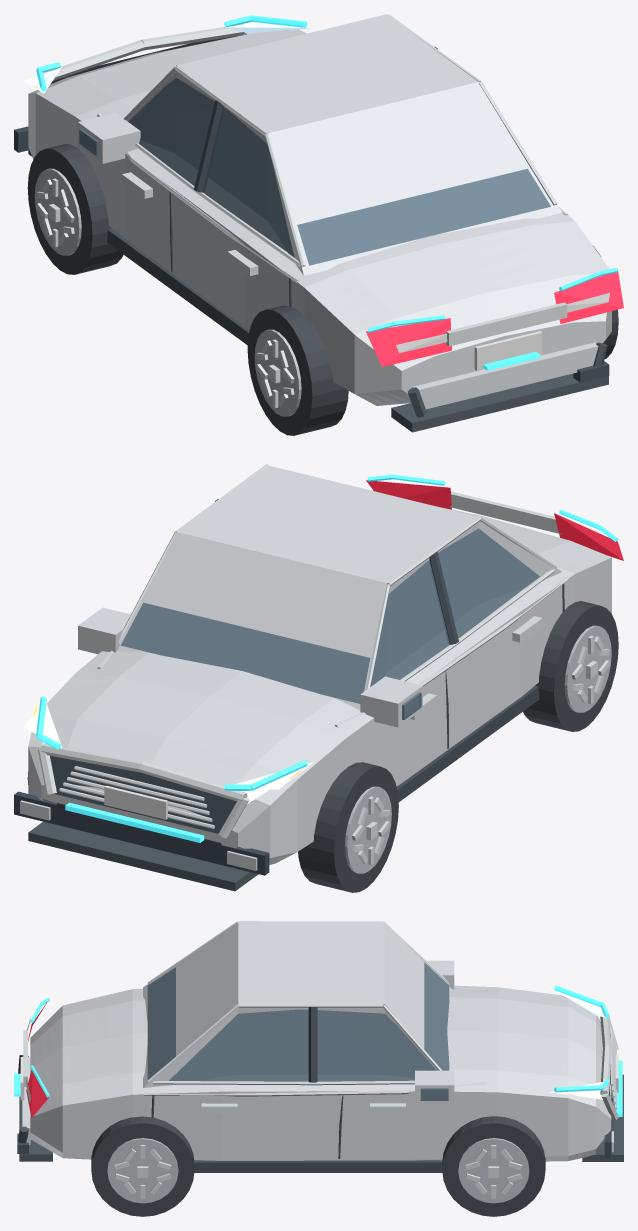
3 renders of one model, top to bottom at view 1: azimuth 30°, elevation 25°; view 2: azimuth 150°, elevation 25°; view 3: azimuth 270°, elevation 25°, orthographic. The views are drawn at different scales.
Parts seen in each view (by area): view 1: BodyPaint_SculptedBody, BodyPaint_RoofAndPillars, BodyPaint_RoofCentre, WindowGlass_RearWindow, WindowGlass_RearSide_-1, Wheel_Rear_L_Tyre, Wheel_Front_L_Tyre, WindowGlass_FrontSide_-1, RearLowerBumper, NN_RearDiffuser, SideSkirt_-1, TailRed_-1 (+12 smaller); view 2: BodyPaint_SculptedBody, BodyPaint_RoofAndPillars, BodyPaint_RoofCentre, WindowGlass_Windscreen, Wheel_Front_L_Tyre, WindowGlass_RearSide_-1, WindowGlass_FrontSide_-1, Wheel_Rear_L_Tyre, NN_FrontSplitter, GrilleMesh_Front, LowerGrille, SideSkirt_-1 (+17 smaller); view 3: BodyPaint_SculptedBody, BodyPaint_RoofAndPillars, BodyPaint_RoofCentre, WindowGlass_RearSide_1, WindowGlass_FrontSide_1, Wheel_Front_R_Tyre, Wheel_Rear_R_Tyre, SideSkirt_1, Wheel_Rear_R_Alloy, Wheel_Front_R_Alloy, WindowGlass_RearWindow, WindowGlass_Windscreen (+10 smaller).
Boxes of the visible parts, x1,y1,x2,y2 form: BodyPaint_SculptedBody: (28, 29, 611, 405); BodyPaint_RoofAndPillars: (127, 14, 561, 275); BodyPaint_RoofCentre: (180, 15, 475, 131); WindowGlass_RearWindow: (297, 169, 550, 265); WindowGlass_RearSide_-1: (203, 107, 294, 256); Wheel_Rear_L_Tyre: (247, 305, 348, 435); Wheel_Front_L_Tyre: (27, 144, 123, 274); WindowGlass_FrontSide_-1: (128, 78, 214, 185); RearLowerBumper: (412, 342, 598, 409); NN_RearDiffuser: (391, 373, 608, 432); SideSkirt_-1: (107, 228, 249, 344); TailRed_-1: (366, 318, 451, 366); BodyPaint_SculptedBody: (28, 507, 611, 864); BodyPaint_RoofAndPillars: (117, 465, 561, 709); BodyPaint_RoofCentre: (180, 466, 475, 581); WindowGlass_Windscreen: (121, 602, 370, 703); Wheel_Front_L_Tyre: (298, 762, 398, 892); WindowGlass_RearSide_-1: (438, 528, 539, 638); WindowGlass_FrontSide_-1: (370, 560, 449, 686); Wheel_Rear_L_Tyre: (523, 601, 618, 731); NN_FrontSplitter: (28, 821, 258, 891); GrilleMesh_Front: (50, 756, 236, 833); LowerGrille: (51, 803, 226, 864); SideSkirt_-1: (396, 686, 539, 801); BodyPaint_SculptedBody: (30, 985, 611, 1161); BodyPaint_RoofAndPillars: (143, 922, 451, 1087); BodyPaint_RoofCentre: (239, 922, 382, 1002); WindowGlass_RearSide_1: (169, 1009, 308, 1081); WindowGlass_FrontSide_1: (317, 1010, 436, 1081); Wheel_Front_R_Tyre: (442, 1116, 545, 1216); Wheel_Rear_R_Tyre: (91, 1116, 194, 1216); SideSkirt_1: (194, 1160, 442, 1172); Wheel_Rear_R_Alloy: (107, 1138, 178, 1203); Wheel_Front_R_Alloy: (458, 1138, 529, 1203); WindowGlass_RearWindow: (147, 967, 175, 1079); WindowGlass_Windscreen: (424, 962, 449, 1070).
Bounding box in the file's own units: 2.58 × 1.85 × 5.25.
